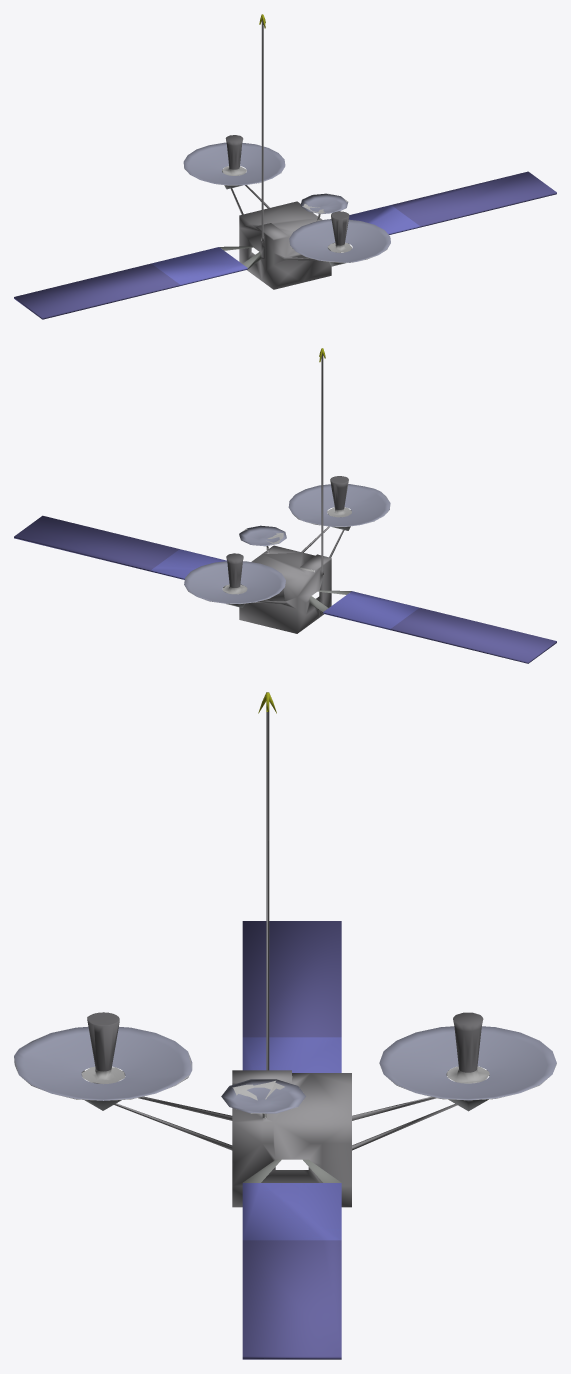
The model's file is tdrs.glb.
The picture shows the model from 3 angles, top to bottom: view 1: azimuth 30°, elevation 25°; view 2: azimuth 150°, elevation 25°; view 3: azimuth 270°, elevation 25°; orthographic projection. The views are drawn at different scales.
Parts seen in each view (by area): view 1: polySurface5, transform8; view 2: polySurface5, transform8; view 3: polySurface5, transform8.
Part boxes in pixels (x1=…): polySurface5: x1=14, y1=14, x2=556, y2=319; transform8: x1=184, y1=166, x2=387, y2=269; polySurface5: x1=14, y1=348, x2=556, y2=663; transform8: x1=186, y1=494, x2=390, y2=613; polySurface5: x1=14, y1=692, x2=556, y2=1359; transform8: x1=14, y1=1034, x2=556, y2=1182.
Bounding box in the file's own units: 0.8866 × 0.4488 × 0.4674.
3 materials, 3 textured.
